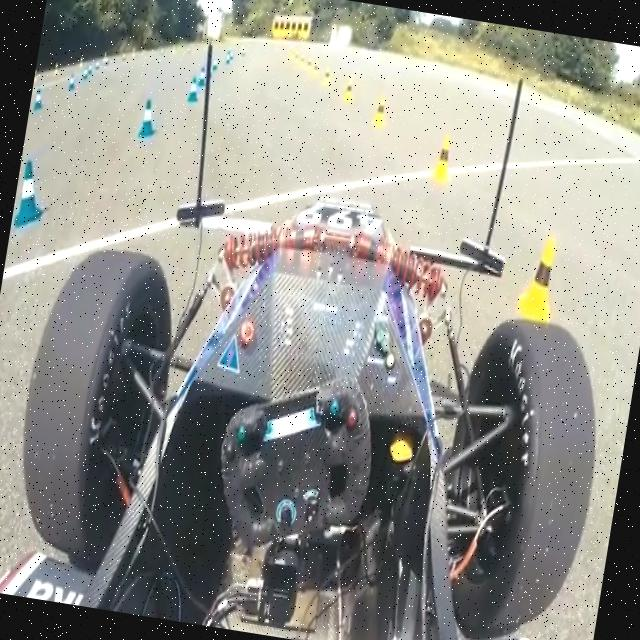blue_cone: (12, 158, 51, 233), (136, 95, 164, 142), (186, 72, 202, 106), (32, 86, 46, 114)
yellow_cone: (516, 229, 566, 331), (431, 133, 458, 187), (372, 94, 390, 128)
